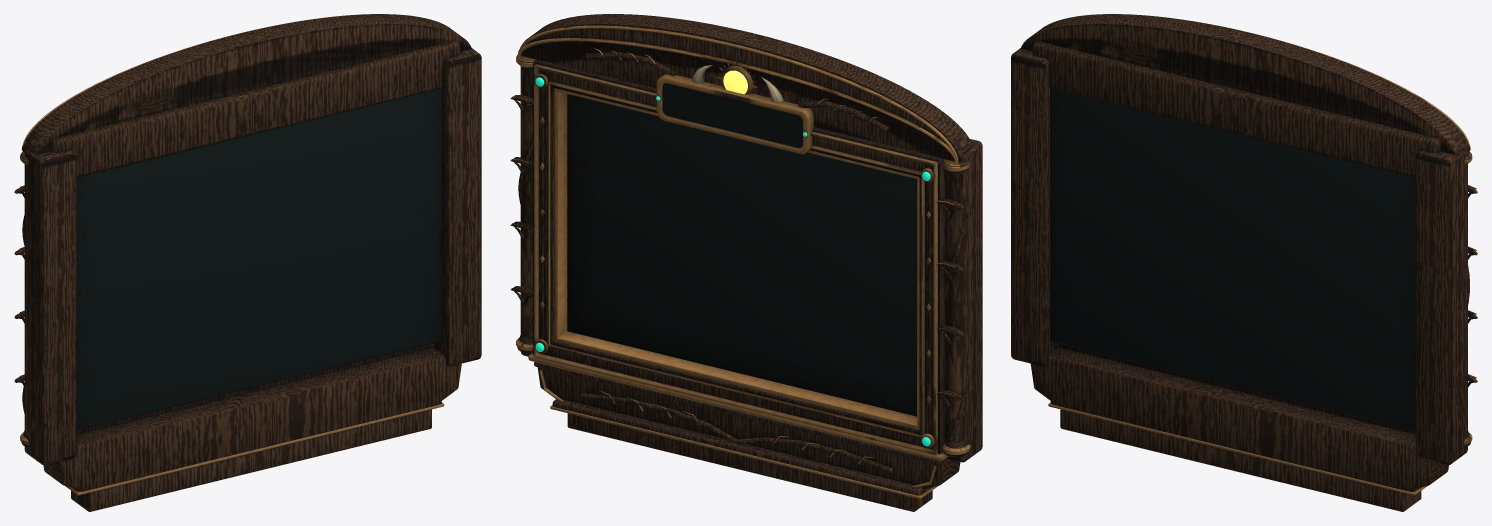
3 renders of one model, left to right at view 1: azimuth 30°, elevation 25°; view 2: azimuth 150°, elevation 25°; view 3: azimuth 330°, elevation 25°, orthographic.
Visible parts, largest first — view 1: Carved_dark_acacia, Uniform_dark_inset, Hammered_bronze_trim; view 2: Uniform_dark_inset, Carved_dark_acacia, Hammered_bronze_trim; view 3: Carved_dark_acacia, Uniform_dark_inset, Hammered_bronze_trim.
Boxes of the visible parts, left/top/right/bottom form: Carved_dark_acacia: left=14, top=14, right=481, bottom=511; Uniform_dark_inset: left=76, top=88, right=442, bottom=430; Hammered_bronze_trim: left=19, top=14, right=444, bottom=495; Uniform_dark_inset: left=567, top=83, right=916, bottom=416; Carved_dark_acacia: left=510, top=14, right=982, bottom=511; Hammered_bronze_trim: left=511, top=25, right=970, bottom=498; Carved_dark_acacia: left=1011, top=14, right=1477, bottom=511; Uniform_dark_inset: left=1050, top=88, right=1415, bottom=430; Hammered_bronze_trim: left=1048, top=14, right=1476, bottom=495.
Size of the model in its own units: 10.27 by 9.3 by 1.2.
6 materials, 4 textured.
